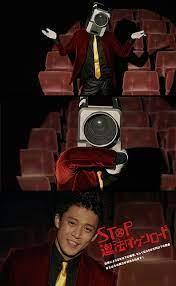no more kid: (73, 91, 129, 159), (85, 2, 116, 40)
